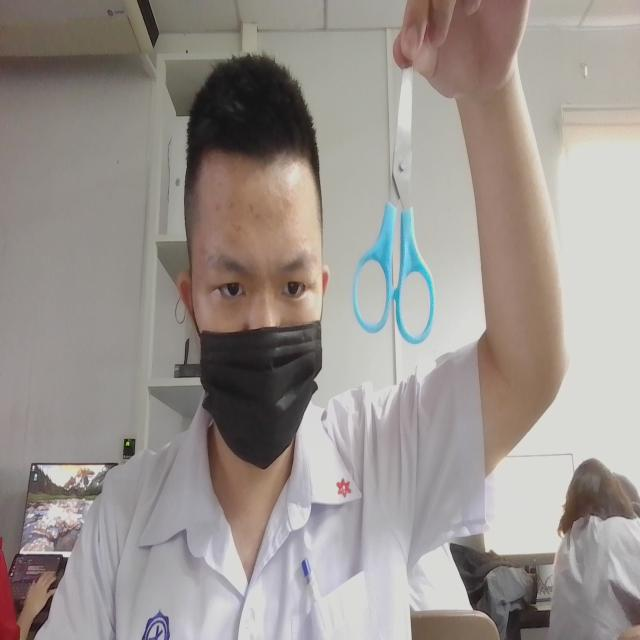scissors: (339, 57, 444, 360)
